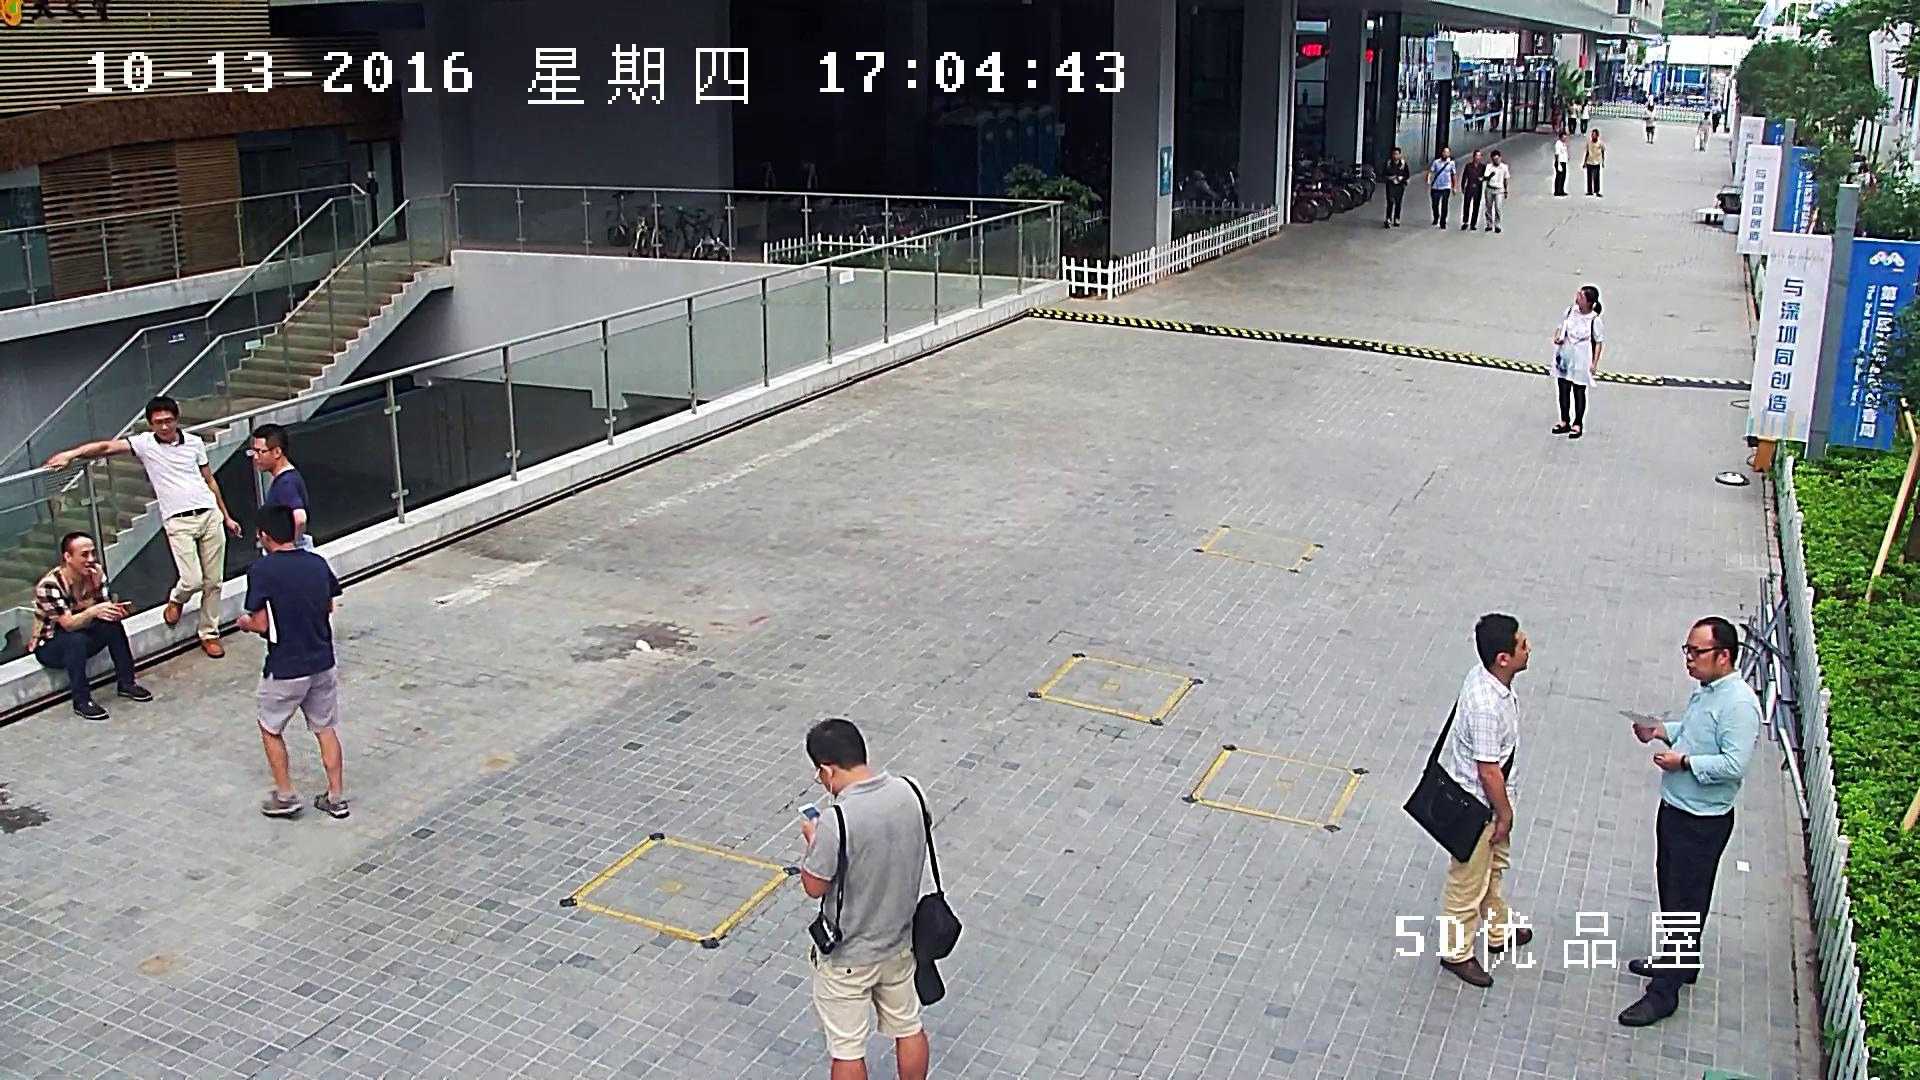person: (795, 718, 962, 1080), (1617, 615, 1763, 1027), (45, 394, 242, 659), (1402, 613, 1533, 986), (235, 504, 349, 819), (28, 531, 154, 720), (243, 423, 317, 553), (1551, 285, 1604, 438), (1425, 147, 1458, 229), (1382, 147, 1410, 228), (1484, 150, 1510, 232), (1461, 150, 1483, 230), (1582, 128, 1606, 197), (1553, 131, 1570, 195), (1695, 111, 1711, 151), (1643, 101, 1657, 144), (1474, 93, 1487, 133), (1566, 97, 1579, 134), (1579, 98, 1590, 134), (1711, 99, 1721, 132)
